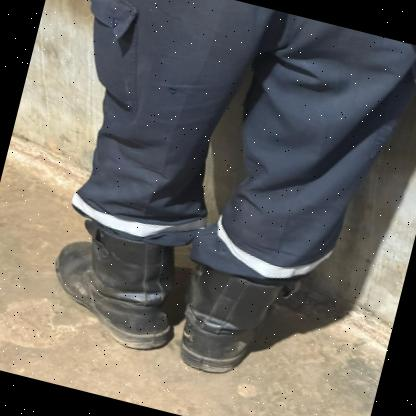bota: (31, 204, 195, 358), (163, 242, 292, 389)
